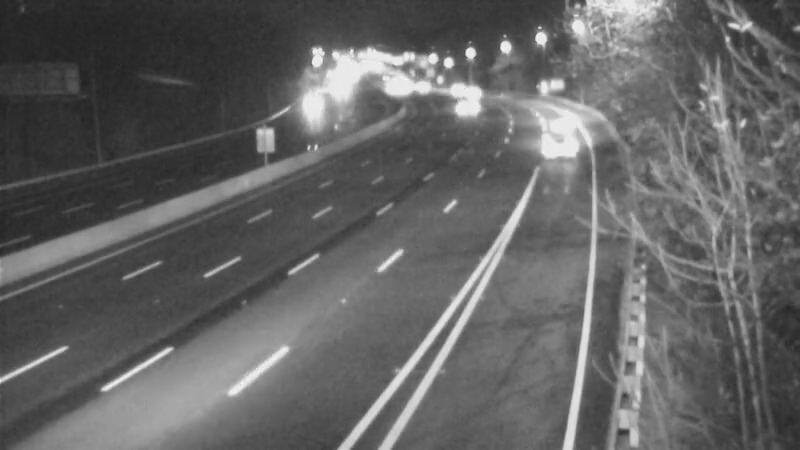vehicle: (441, 84, 491, 134), (528, 102, 578, 152), (531, 122, 581, 172), (286, 77, 336, 127)
